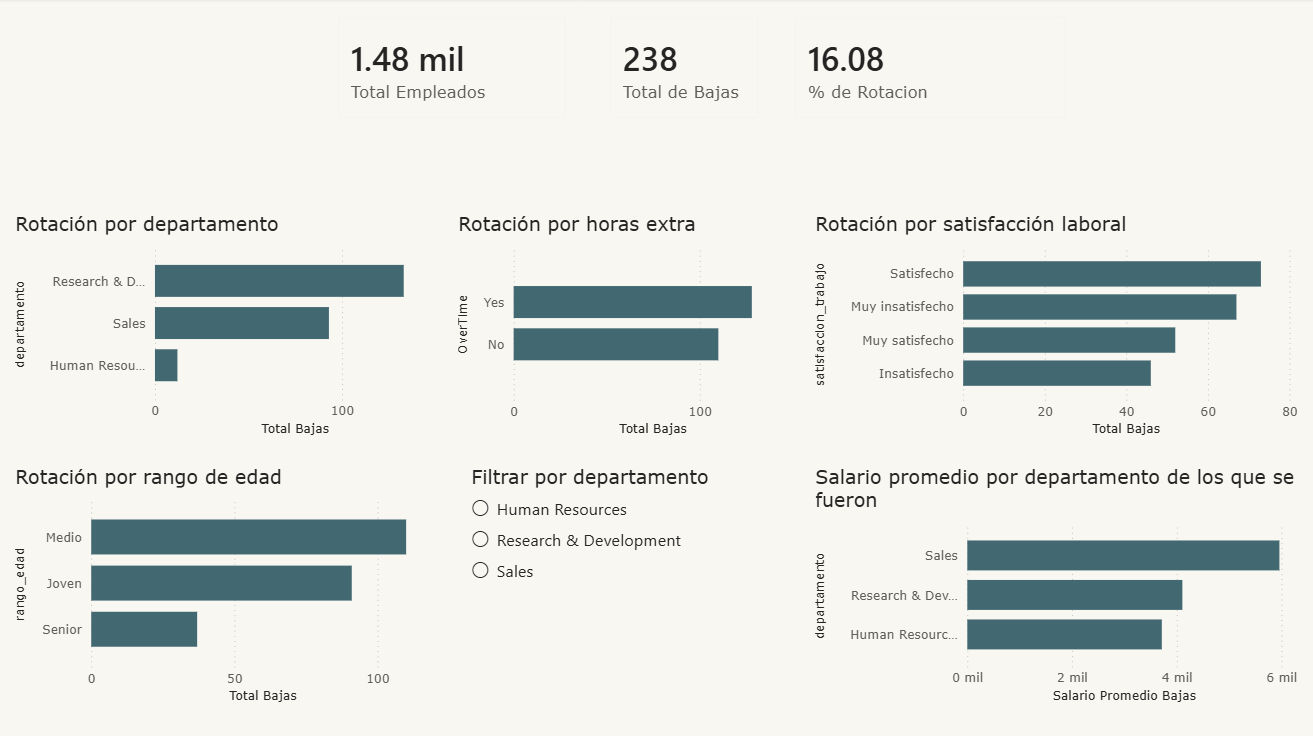

The page's visual inventory and layout, read from the dashboard file:
{"tool":"powerbi","page":{"name":"Página 1","canvas":[1280,720],"ordinal":0},"visuals":[{"type":"cardVisual","fields":{"Data":["CountNonNull(hr_analytics vista_empleados.id_empleado)"]},"box":[312.2,0,256.8,134.2],"z":0},{"type":"cardVisual","fields":{"Data":["hr_analytics vista_empleados.Total Bajas"]},"box":[576.8,0,179.9,134.2],"z":1000},{"type":"cardVisual","fields":{"Data":["Avg(hr_analytics vista_empleados.% Rotacion)"]},"box":[756.7,0,298.6,134.2],"z":2000},{"type":"clusteredBarChart","title":"Rotación por departamento","fields":{"Y":["hr_analytics vista_empleados.Total Bajas"],"Category":["hr_analytics vista_empleados.departamento"]},"box":[10.7,207.2,430.9,223.7],"z":3000},{"type":"clusteredBarChart","title":"Rotación por horas extra","fields":{"Y":["hr_analytics vista_empleados.Total Bajas"],"Category":["hr_analytics vista_empleados.OverTime"]},"box":[441.7,207.2,347.5,224],"z":4000},{"type":"clusteredBarChart","title":"Rotación por satisfacción laboral","fields":{"Category":["hr_analytics vista_empleados.satisfaccion_trabajo"],"Y":["hr_analytics vista_empleados.Total Bajas"]},"box":[789.1,207.2,479.3,224],"z":5000},{"type":"clusteredBarChart","title":"Rotación por rango de edad","fields":{"Category":["hr_analytics vista_empleados.rango_edad"],"Y":["hr_analytics vista_empleados.Total Bajas"]},"box":[10.5,453.2,430.2,237.6],"z":6000},{"type":"clusteredBarChart","title":"Salario promedio por departamento de los que se fueron","fields":{"Category":["hr_analytics vista_empleados.departamento"],"Y":["hr_analytics vista_empleados.Salario Promedio Bajas"]},"box":[788.8,453.3,479.5,237.3],"z":7000},{"type":"listSlicer","fields":{"Values":["hr_analytics vista_empleados.departamento"]},"box":[454.2,453.3,322.9,237.3],"z":8000}]}

Visuals, with their boxes in screenshot pixels (x1, y1, x2, y2), scaled from the page's 1280x720 canvas onto the 1313x736 screenshot:
cardVisual - CountNonNull(hr_analytics vista_empleados.id_empleado): select_region(320, 0, 584, 137)
cardVisual - hr_analytics vista_empleados.Total Bajas: select_region(592, 0, 776, 137)
cardVisual - Avg(hr_analytics vista_empleados.% Rotacion): select_region(776, 0, 1083, 137)
"Rotación por departamento" clusteredBarChart: select_region(11, 212, 453, 440)
"Rotación por horas extra" clusteredBarChart: select_region(453, 212, 810, 441)
"Rotación por satisfacción laboral" clusteredBarChart: select_region(809, 212, 1301, 441)
"Rotación por rango de edad" clusteredBarChart: select_region(11, 463, 452, 706)
"Salario promedio por departamento de los que se fueron" clusteredBarChart: select_region(809, 463, 1301, 706)
listSlicer - hr_analytics vista_empleados.departamento: select_region(466, 463, 797, 706)
